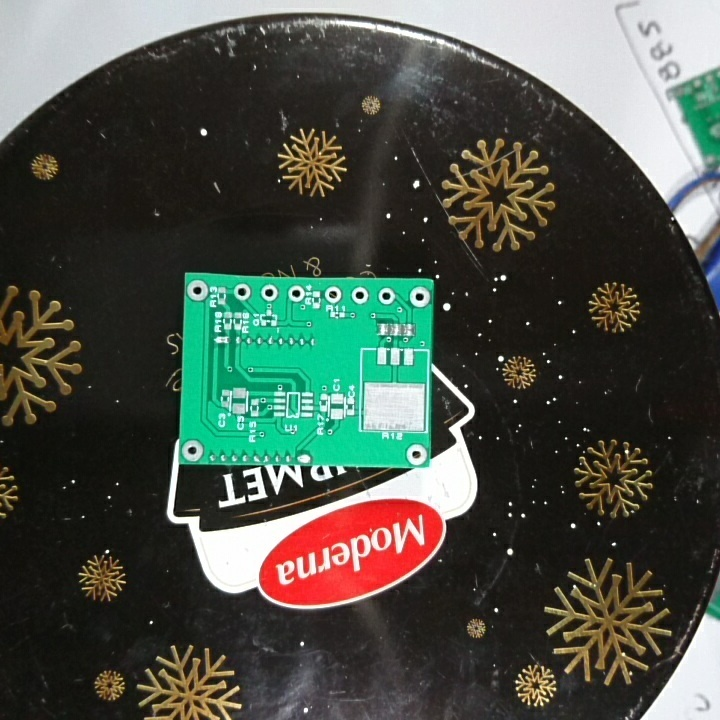F: (408, 283, 432, 312), (181, 438, 207, 463), (186, 279, 210, 303), (405, 442, 428, 466), (231, 281, 253, 303), (259, 282, 279, 305), (350, 285, 369, 306), (323, 286, 342, 306), (377, 286, 394, 306), (287, 284, 304, 303)
P: (211, 332, 231, 348), (294, 450, 313, 465)
